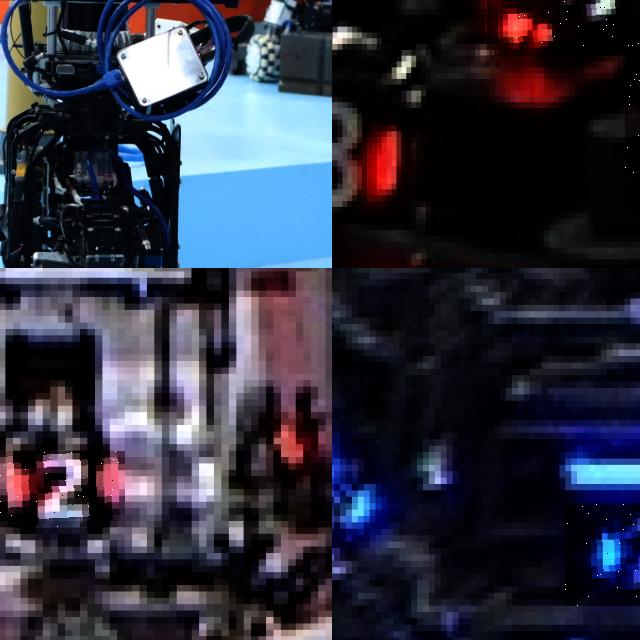B2: (565, 503, 640, 605)
R2: (0, 450, 124, 527)
R3: (332, 85, 403, 242), (487, 0, 630, 55)
